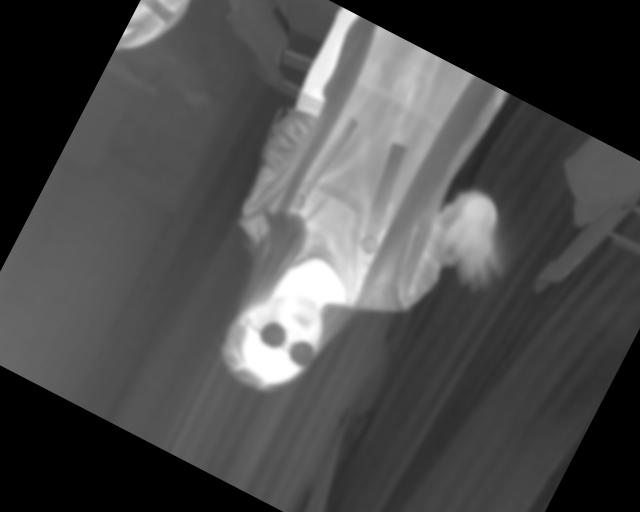face: (212, 271, 339, 407)
